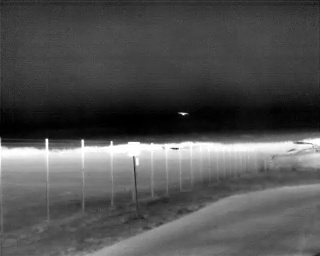AIRPLANE: (177, 109, 190, 118)
